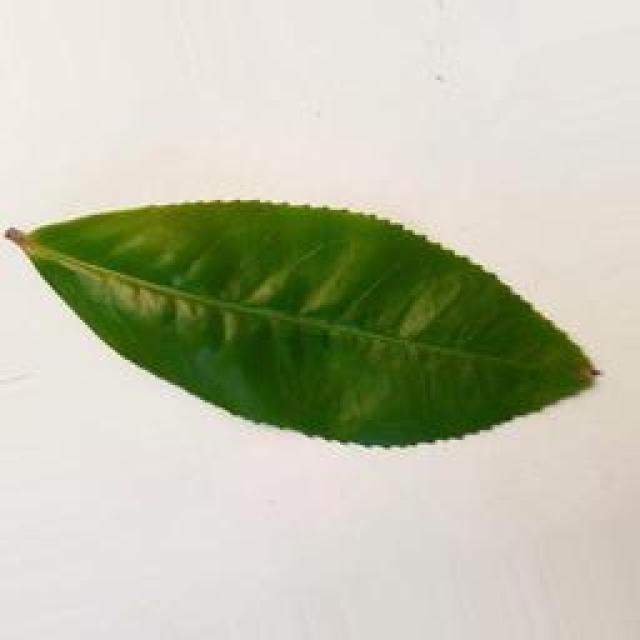Healthy: (7, 193, 597, 451)
